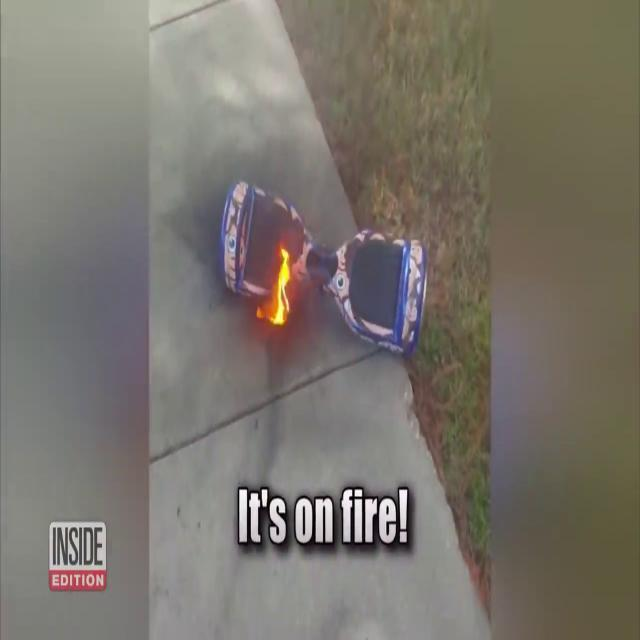Fire: (264, 240, 297, 330)
Smoke: (150, 1, 348, 228)
